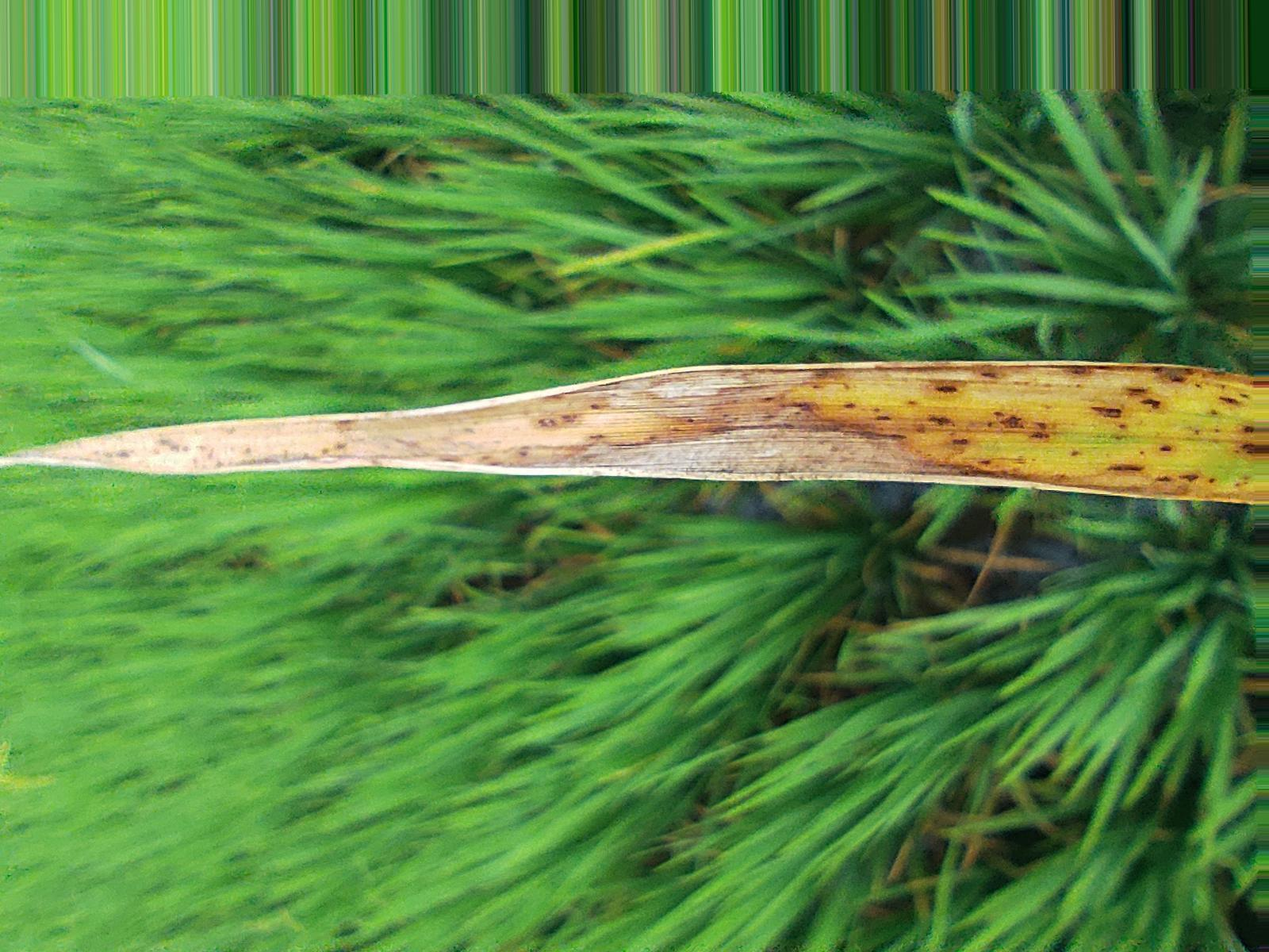LEAF: (0, 361, 1253, 504)
NBS: (1091, 406, 1121, 417), (928, 416, 956, 426), (1108, 464, 1144, 471), (1140, 398, 1160, 408), (1219, 397, 1238, 407), (937, 385, 957, 392), (1178, 475, 1198, 482), (1029, 432, 1049, 439), (1156, 476, 1177, 482), (1129, 388, 1147, 395), (992, 457, 1026, 460), (953, 439, 969, 445), (982, 374, 998, 378)
